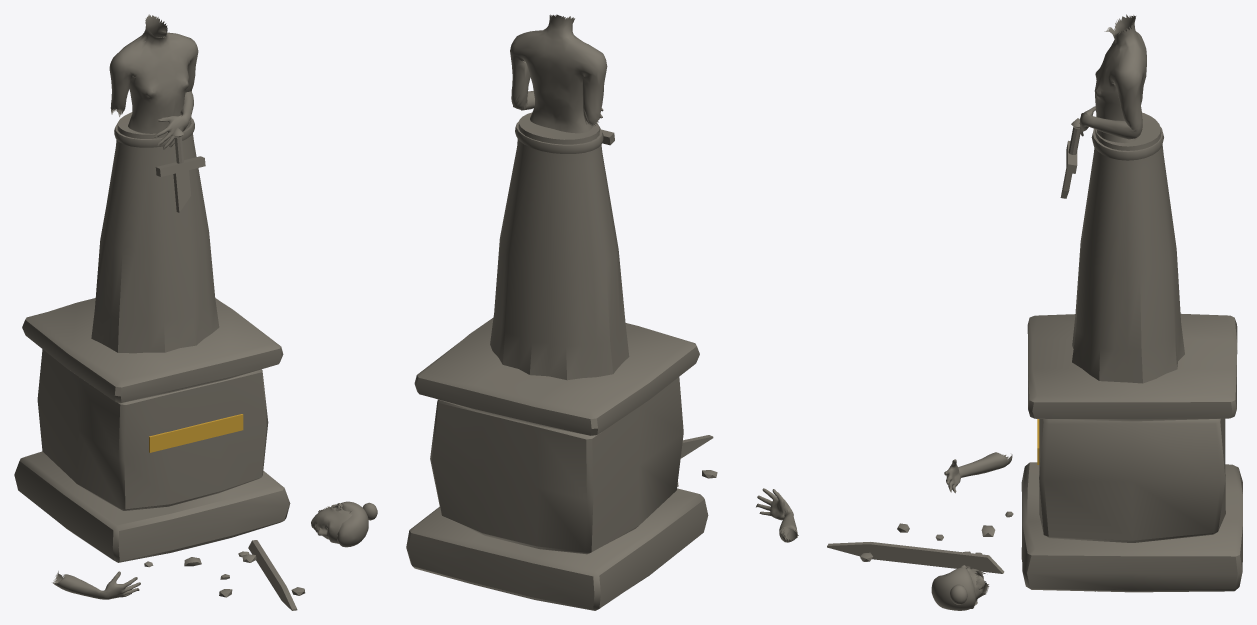
File: statue_kaputt.glb
The picture shows the model from 3 angles, left to right: view 1: azimuth 30°, elevation 25°; view 2: azimuth 150°, elevation 25°; view 3: azimuth 270°, elevation 25°; orthographic projection. The views are drawn at different scales.
Visible parts, largest first — view 1: statue_kaputt; view 2: statue_kaputt; view 3: statue_kaputt.
Part boxes in pixels (x1,y1,x2,y2): statue_kaputt: (14,14,377,610); statue_kaputt: (406,14,798,610); statue_kaputt: (827,14,1242,610).
Bounding box in the file's own units: 1.62 × 2.55 × 1.79.
